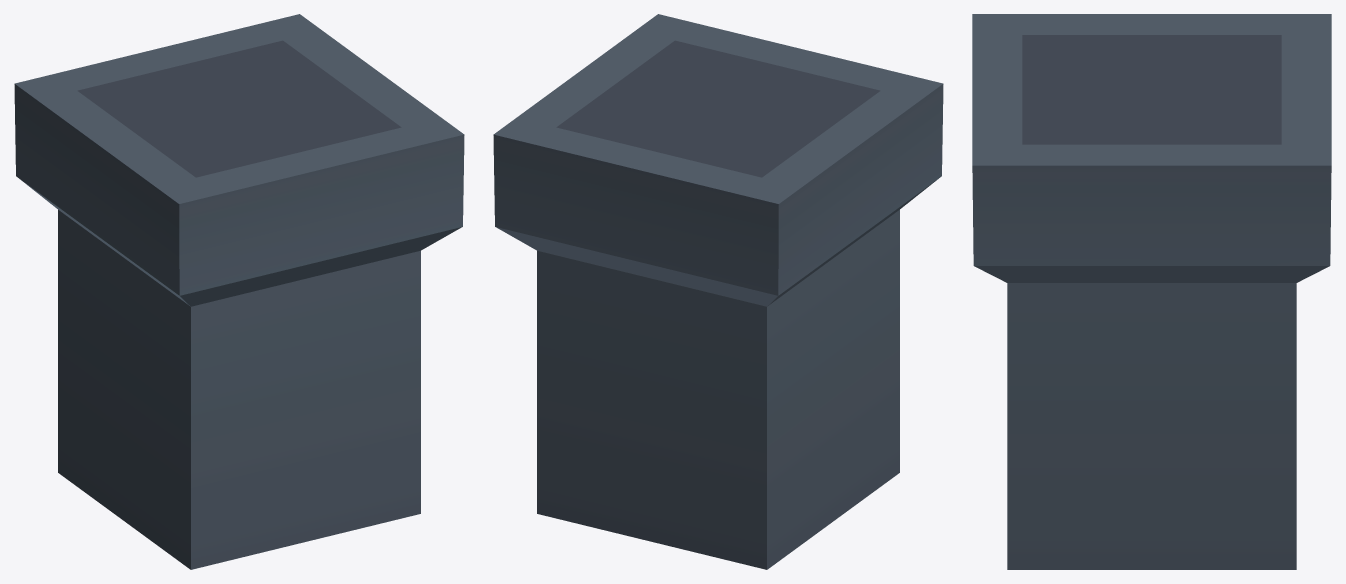
Rendered from Chimney_2_A_2.fbx.
The picture shows the model from 3 angles, left to right: view 1: azimuth 30°, elevation 25°; view 2: azimuth 150°, elevation 25°; view 3: azimuth 270°, elevation 25°; orthographic projection. The views are drawn at different scales.
Parts seen in each view (by area): view 1: Chimney_2_A_2; view 2: Chimney_2_A_2; view 3: Chimney_2_A_2.
Boxes of the visible parts, x1,y1,x2,y2 form: Chimney_2_A_2: [14, 14, 464, 569]; Chimney_2_A_2: [493, 14, 943, 569]; Chimney_2_A_2: [972, 14, 1331, 569].
Bounding box in the file's own units: 63.29 × 81.45 × 63.29.
